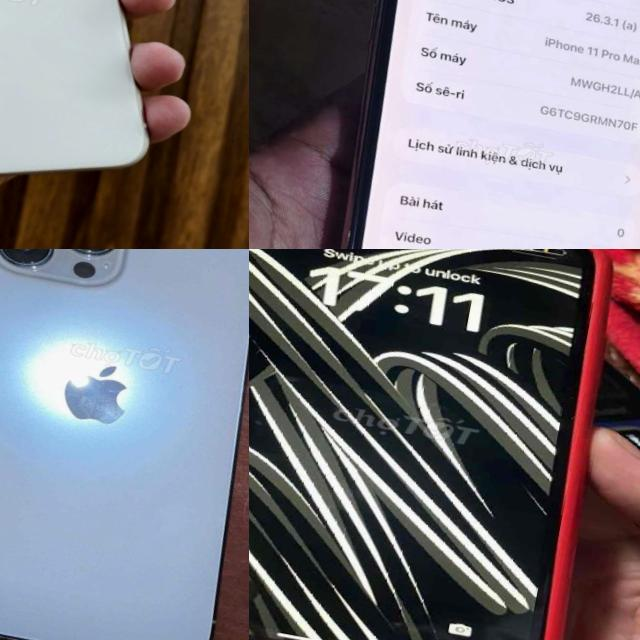gen_11: (292, 0, 640, 249), (0, 0, 225, 226)
gen_12_13: (0, 249, 249, 640)
gen_x_xs: (249, 249, 640, 640)
